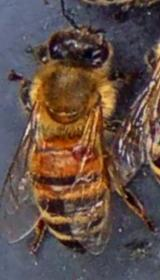varroa_mite: (67, 140, 101, 166)
